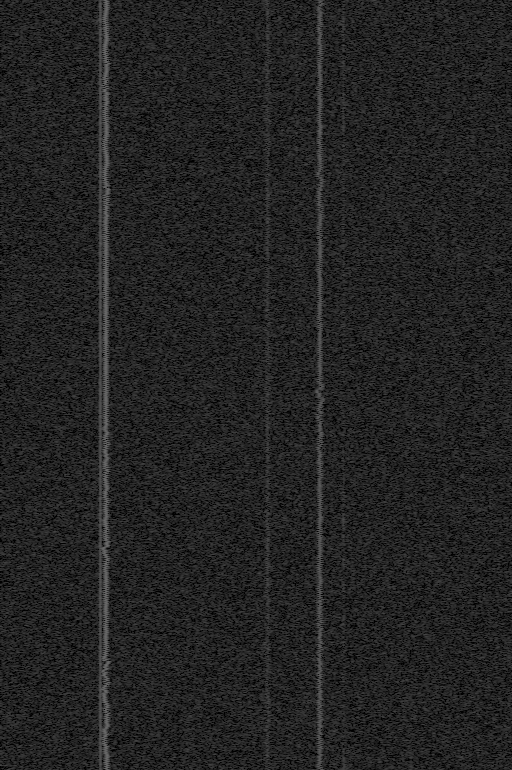wv_cw: (98, 0, 103, 770)
wv_usb: (341, 6, 346, 139), (341, 200, 346, 273), (341, 315, 346, 385), (294, 647, 299, 705), (341, 503, 346, 547), (341, 156, 346, 199), (341, 660, 346, 698), (341, 733, 346, 770), (294, 70, 299, 106), (341, 426, 346, 460), (341, 628, 346, 659), (341, 595, 346, 626), (341, 548, 346, 576), (341, 474, 346, 502), (294, 309, 299, 333), (341, 274, 346, 295), (294, 181, 299, 201), (294, 36, 299, 56), (294, 144, 299, 161), (295, 496, 298, 523), (341, 716, 346, 732), (341, 699, 346, 715), (341, 580, 346, 594), (341, 142, 346, 155), (294, 224, 299, 237), (341, 461, 346, 473), (294, 57, 299, 69), (295, 718, 299, 732), (294, 753, 299, 764), (294, 6, 299, 17), (295, 600, 298, 617), (294, 114, 299, 124), (295, 238, 298, 254), (295, 347, 298, 362), (295, 735, 298, 748), (295, 542, 298, 555), (342, 416, 346, 425), (341, 296, 346, 303), (342, 404, 345, 415), (342, 392, 345, 403), (295, 634, 298, 645), (295, 257, 298, 268), (294, 577, 299, 583), (295, 423, 298, 433), (295, 404, 298, 414), (295, 298, 298, 308), (295, 279, 298, 289), (295, 213, 298, 223), (295, 706, 298, 715), (295, 469, 298, 478), (341, 309, 346, 314), (294, 536, 299, 541), (294, 107, 299, 112), (295, 487, 298, 495), (295, 443, 298, 451), (295, 434, 298, 442), (295, 172, 298, 180), (295, 132, 298, 140), (295, 626, 298, 633), (295, 592, 298, 599), (295, 584, 298, 591), (295, 562, 298, 568), (295, 527, 298, 533), (295, 416, 298, 422), (295, 393, 298, 399), (295, 375, 298, 381), (295, 290, 298, 296), (295, 765, 298, 770), (295, 459, 298, 464), (295, 452, 298, 457), (294, 209, 299, 212), (295, 203, 298, 208), (294, 28, 299, 31), (342, 387, 345, 391), (342, 304, 345, 308), (295, 556, 298, 560), (295, 483, 299, 486), (295, 388, 298, 392), (295, 383, 298, 387), (295, 334, 298, 338), (295, 622, 298, 625), (295, 479, 298, 482), (295, 369, 298, 372), (295, 343, 298, 346), (295, 339, 298, 342), (295, 275, 298, 278), (295, 269, 298, 272), (295, 162, 298, 165), (295, 126, 298, 129), (295, 32, 298, 35), (295, 18, 298, 21)
wv_wbfm: (99, 0, 113, 770), (313, 0, 327, 770), (262, 0, 274, 328), (262, 328, 273, 650), (262, 650, 273, 770)
